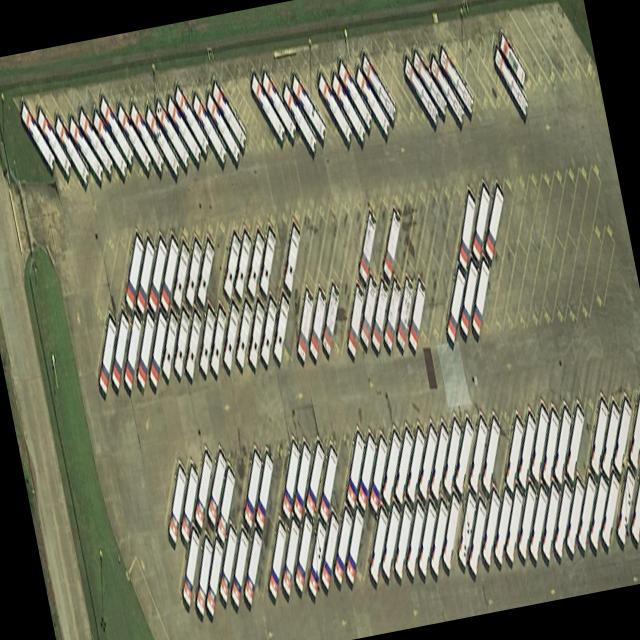large-vehicle: (493, 43, 528, 119), (117, 100, 152, 175), (54, 112, 89, 187), (355, 63, 390, 138), (174, 82, 209, 156), (99, 93, 134, 167), (250, 71, 285, 145), (130, 99, 164, 175), (206, 90, 240, 165), (192, 90, 226, 165), (92, 106, 127, 178), (78, 104, 113, 176), (439, 43, 474, 115), (145, 103, 179, 177), (338, 58, 372, 132), (332, 70, 366, 144), (282, 81, 316, 155), (212, 79, 247, 150), (20, 100, 55, 171), (156, 97, 190, 170), (37, 106, 71, 179), (404, 53, 438, 126), (262, 68, 296, 141), (318, 71, 352, 144), (362, 49, 396, 122), (167, 93, 201, 165), (69, 114, 103, 186), (430, 52, 464, 124), (292, 71, 326, 143), (414, 47, 447, 116), (442, 414, 463, 496), (459, 256, 480, 337), (207, 448, 228, 528), (504, 414, 525, 494), (498, 29, 526, 89), (553, 477, 573, 561), (98, 312, 118, 395), (281, 438, 301, 520), (346, 429, 366, 511), (345, 503, 365, 585), (481, 414, 501, 496), (589, 470, 609, 552), (553, 403, 573, 485), (468, 495, 488, 577), (446, 264, 467, 342), (454, 416, 475, 494), (307, 516, 327, 597), (168, 462, 188, 543), (613, 394, 633, 475), (616, 464, 636, 545), (577, 472, 597, 553), (429, 496, 449, 577), (484, 183, 505, 260), (517, 480, 537, 560), (530, 403, 550, 483), (471, 181, 491, 261), (517, 410, 537, 490), (601, 468, 621, 548), (601, 399, 621, 479), (394, 426, 414, 506), (357, 432, 377, 512), (457, 488, 477, 568), (306, 439, 326, 518), (243, 527, 263, 606), (494, 485, 514, 564), (529, 483, 549, 562), (381, 501, 401, 580), (406, 498, 426, 577), (406, 425, 426, 504), (206, 534, 225, 617), (430, 422, 450, 500), (268, 519, 287, 601), (255, 449, 274, 531), (111, 307, 130, 389), (505, 481, 524, 563), (293, 441, 312, 522), (244, 449, 263, 530), (195, 534, 214, 615), (321, 510, 340, 590), (319, 443, 338, 523), (180, 463, 199, 543), (471, 256, 490, 336), (458, 191, 477, 271), (590, 396, 609, 476), (369, 432, 388, 512), (419, 421, 438, 501), (418, 497, 437, 577), (542, 405, 560, 489), (194, 448, 213, 527), (230, 528, 249, 607), (482, 487, 501, 566), (566, 403, 585, 482), (383, 428, 402, 507), (370, 505, 389, 584), (394, 501, 413, 580), (442, 491, 461, 570), (148, 236, 168, 311), (334, 506, 353, 584), (125, 233, 144, 311), (123, 312, 142, 390), (217, 464, 236, 542), (470, 413, 488, 495), (295, 511, 313, 592), (220, 523, 238, 604), (322, 280, 341, 356), (383, 275, 402, 351), (282, 516, 300, 596), (182, 526, 200, 606), (308, 287, 328, 359), (137, 309, 155, 388), (149, 308, 167, 387), (542, 481, 560, 560), (566, 476, 584, 555), (160, 235, 179, 309), (358, 209, 377, 283), (296, 285, 314, 362), (137, 238, 155, 314), (360, 272, 378, 348), (347, 282, 365, 357), (408, 277, 426, 352), (383, 207, 401, 281), (246, 228, 265, 297), (273, 291, 291, 363), (234, 228, 252, 299), (260, 294, 278, 365), (184, 308, 202, 379), (173, 306, 191, 377), (283, 222, 301, 292), (197, 236, 215, 306), (396, 274, 413, 348), (223, 229, 241, 298), (260, 225, 277, 297), (222, 301, 240, 369), (371, 279, 388, 351), (210, 304, 227, 375), (173, 238, 190, 309), (162, 307, 178, 381), (236, 298, 253, 367), (186, 236, 203, 305), (199, 303, 215, 374), (249, 298, 265, 368), (629, 392, 640, 468), (630, 478, 640, 543)
